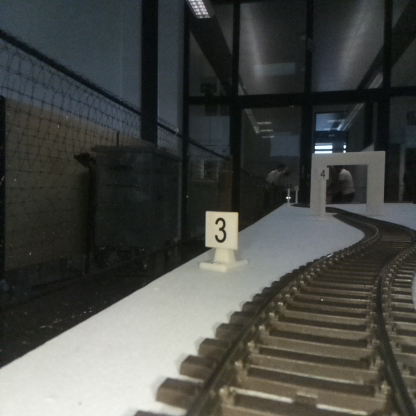white-info-4: (318, 166, 328, 218)
white-stop-3: (205, 211, 238, 268)
